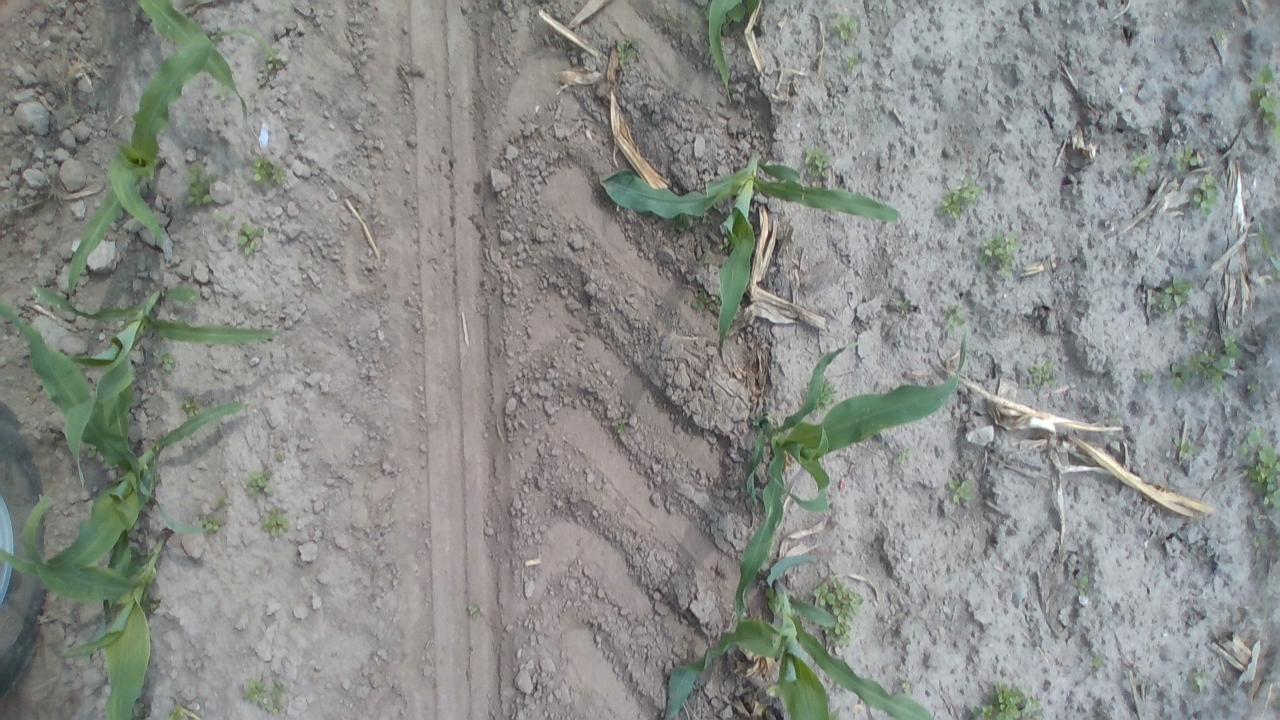Maize: (730, 329, 974, 630), (0, 297, 245, 572), (594, 145, 902, 362), (64, 25, 272, 299), (31, 279, 288, 492), (656, 550, 953, 719), (0, 527, 182, 720), (132, 0, 251, 116), (704, 0, 751, 101)
Weeds: (812, 575, 866, 656), (1168, 336, 1246, 392), (1235, 426, 1280, 509), (963, 680, 1051, 720), (1248, 60, 1280, 144), (977, 225, 1026, 278), (237, 673, 291, 720), (932, 172, 984, 220), (178, 164, 222, 210), (1150, 273, 1194, 318), (246, 151, 286, 190), (1190, 173, 1224, 216), (1019, 357, 1058, 394), (1256, 226, 1280, 284), (799, 141, 832, 182), (942, 474, 979, 507), (236, 220, 266, 260), (242, 467, 276, 502), (262, 504, 291, 540), (615, 32, 642, 70), (811, 376, 838, 413), (196, 507, 228, 538), (177, 391, 208, 422), (151, 343, 180, 374), (689, 287, 720, 316), (941, 302, 969, 334), (832, 12, 860, 43), (1172, 142, 1199, 174), (161, 700, 204, 720), (1126, 149, 1155, 178), (1172, 437, 1201, 464), (660, 214, 699, 234), (1180, 314, 1206, 338), (1188, 668, 1212, 694), (212, 210, 238, 233), (264, 45, 288, 68), (464, 601, 488, 622), (894, 295, 918, 316), (1070, 574, 1090, 598), (896, 672, 914, 698), (839, 52, 858, 76), (1086, 650, 1106, 672), (1250, 530, 1268, 553), (610, 416, 630, 436), (210, 495, 230, 514), (893, 446, 914, 464), (1136, 368, 1156, 386), (700, 213, 720, 228), (272, 446, 288, 464), (1211, 30, 1227, 47)
